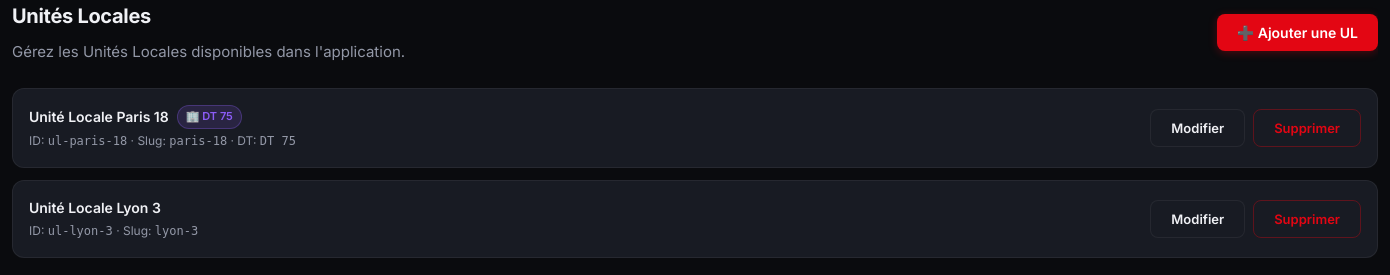
ULsTab › supprime une UL après confirmation
expect the text "Unité Locale Paris 18" is shown: met, box [29,106,169,128]
Click the button "Supprimer" in the row of "· DT:" at (1307, 128), box [1253,109,1361,147]
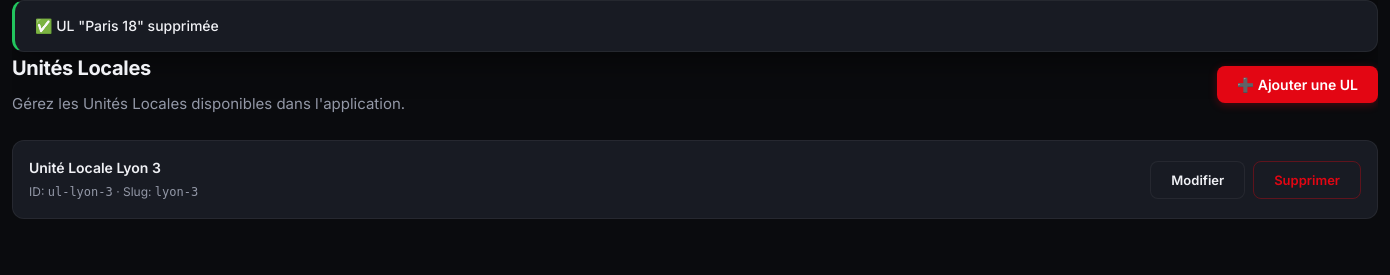
expect the text "✅ UL \"Paris 18\" supprimée" is shown: met, box [12,0,1378,52]
